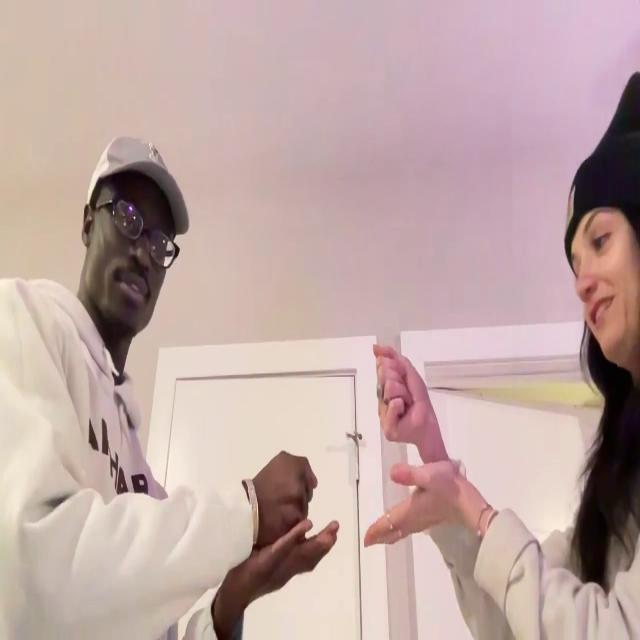Rock: (373, 344, 432, 448), (256, 449, 316, 543)
